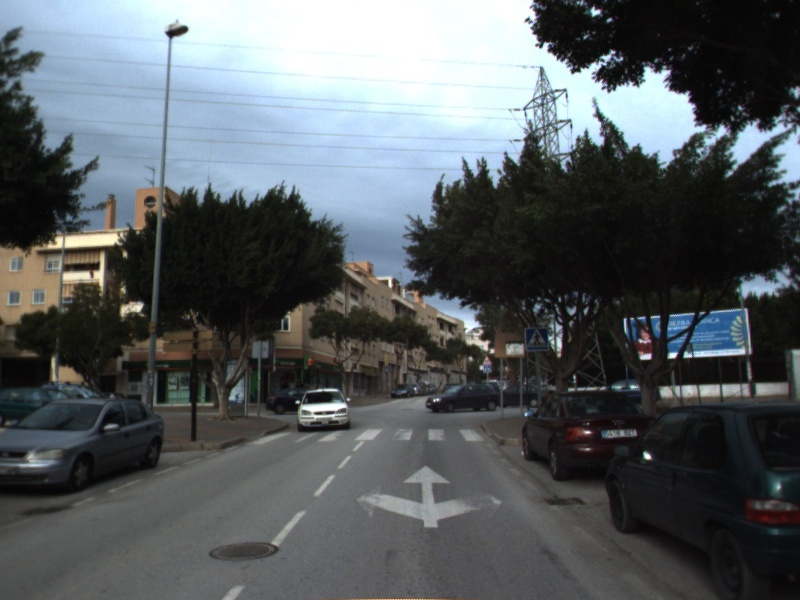STRAIGHT_LEFT_RIGHT: (354, 463, 505, 530)
